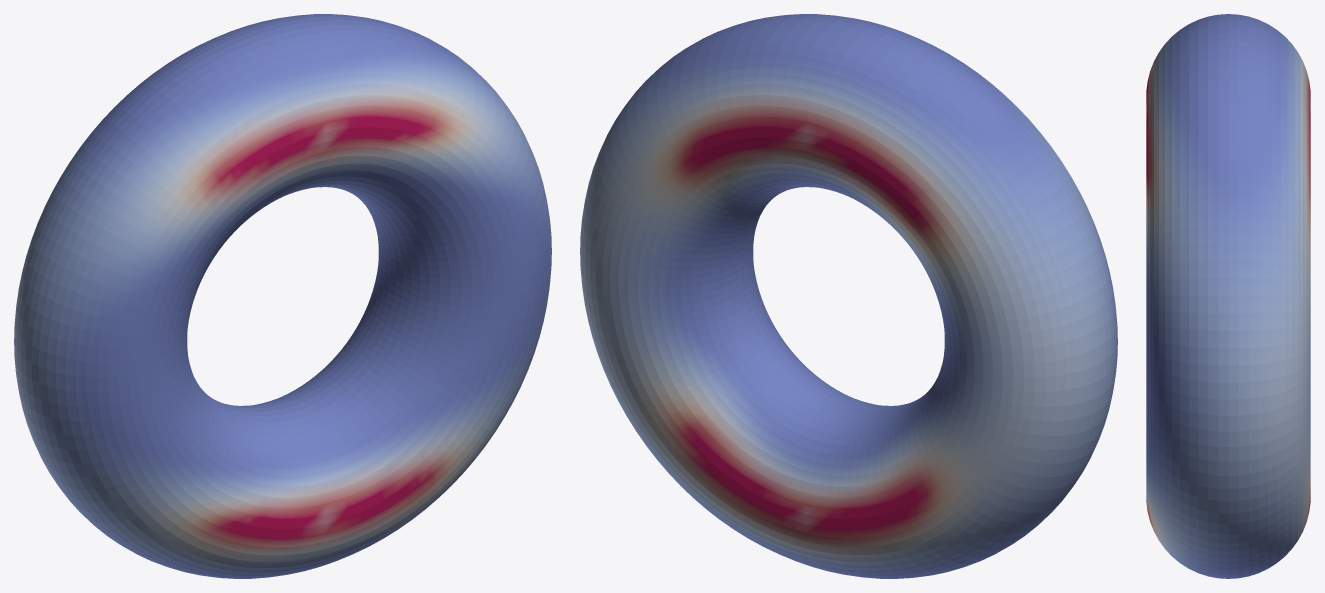
3 renders of one model, left to right at view 1: azimuth 30°, elevation 25°; view 2: azimuth 150°, elevation 25°; view 3: azimuth 270°, elevation 25°, orthographic. The views are drawn at different scales.
Parts seen in each view (by area): view 1: world; view 2: world; view 3: world.
Part boxes in pixels (x1,y1,x2,y2): world: (14,14,551,578); world: (580,14,1117,578); world: (1146,14,1310,578).
Bounding box in the file's own units: 16.93 × 16.93 × 4.92.
